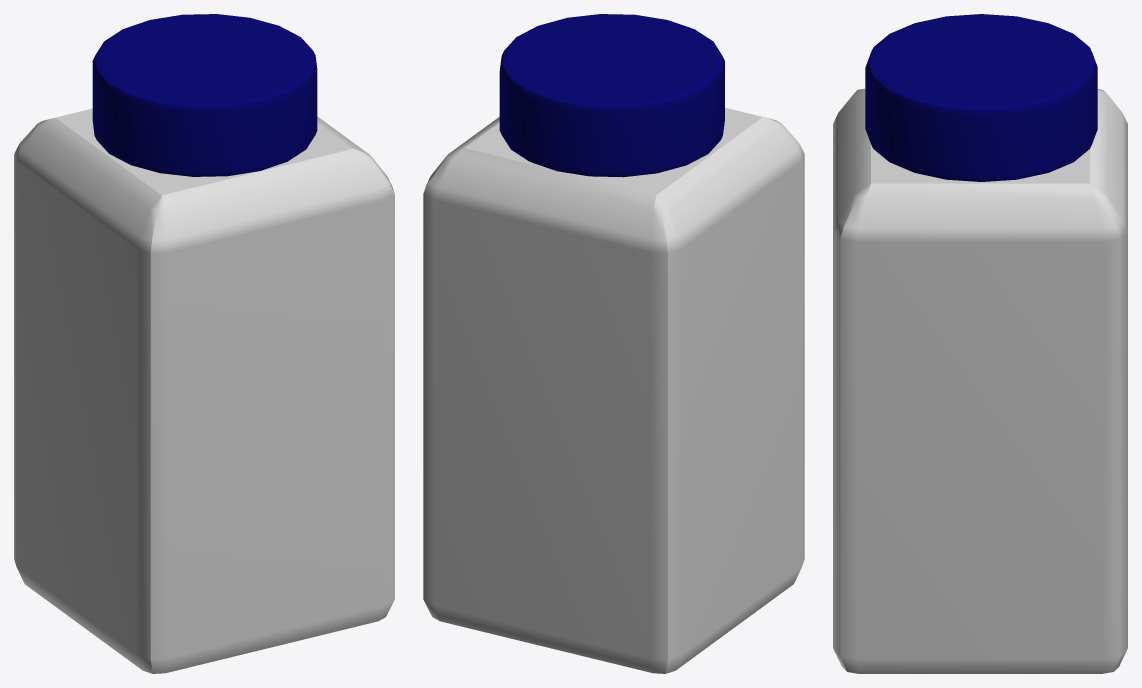
File: powder.fbx
3 renders of one model, left to right at view 1: azimuth 30°, elevation 25°; view 2: azimuth 150°, elevation 25°; view 3: azimuth 270°, elevation 25°, orthographic. The views are drawn at different scales.
Parts seen in each view (by area): view 1: polySurface2; view 2: polySurface2; view 3: polySurface2.
Part boxes in pixels (bbox=[...]): polySurface2: bbox=[14, 14, 394, 673]; polySurface2: bbox=[423, 14, 804, 673]; polySurface2: bbox=[833, 14, 1127, 673].
Bounding box in the file's own units: 1.27 × 2.58 × 1.23.
